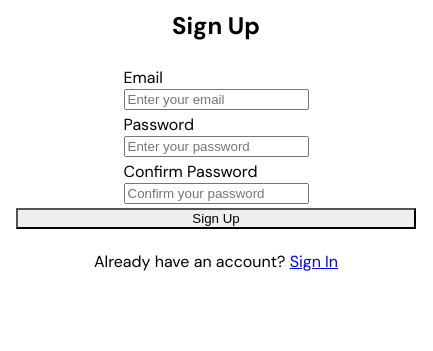
Scenario: Signup Component › should show validation errors for empty fields
This screenshot has width=433, height=351.
Click the button "Sign Up" at (216, 218), box [16,208,416,229]
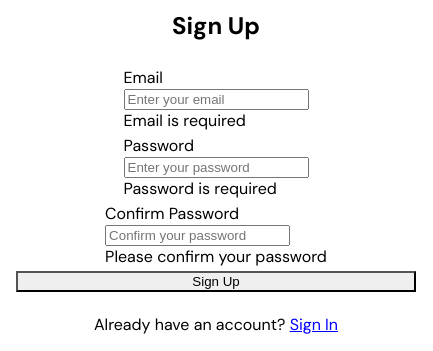
Now the text "Email is required" is shown, box [124,110,246,131]
Now the text "Password is required" is shown, box [124,178,277,199]
Now the text "Please confirm your password" is shown, box [105,246,327,267]
